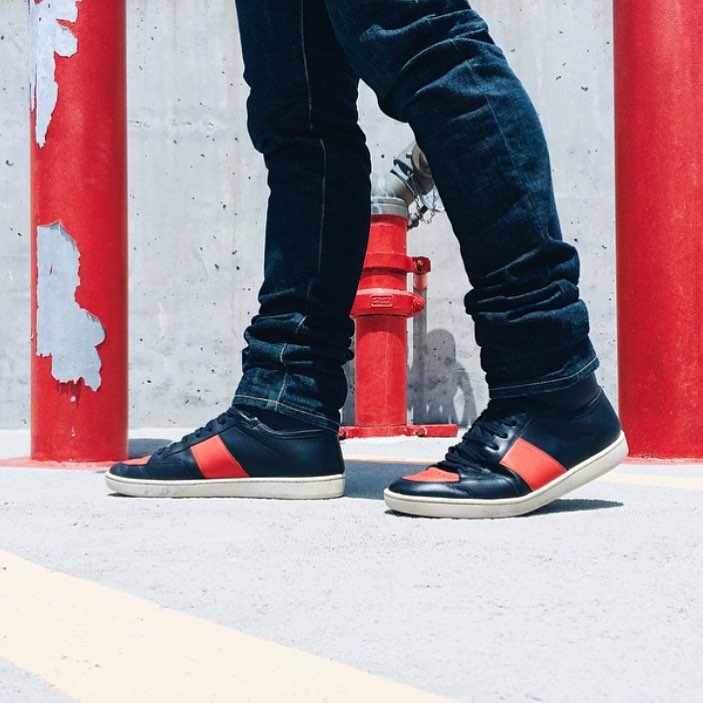sneaker: (358, 355, 652, 543), (90, 369, 365, 513)
